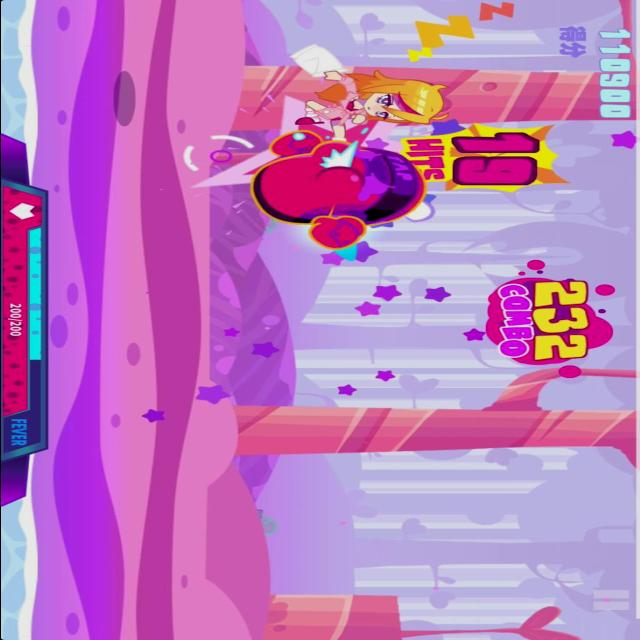tapboss: (242, 130, 438, 250)
